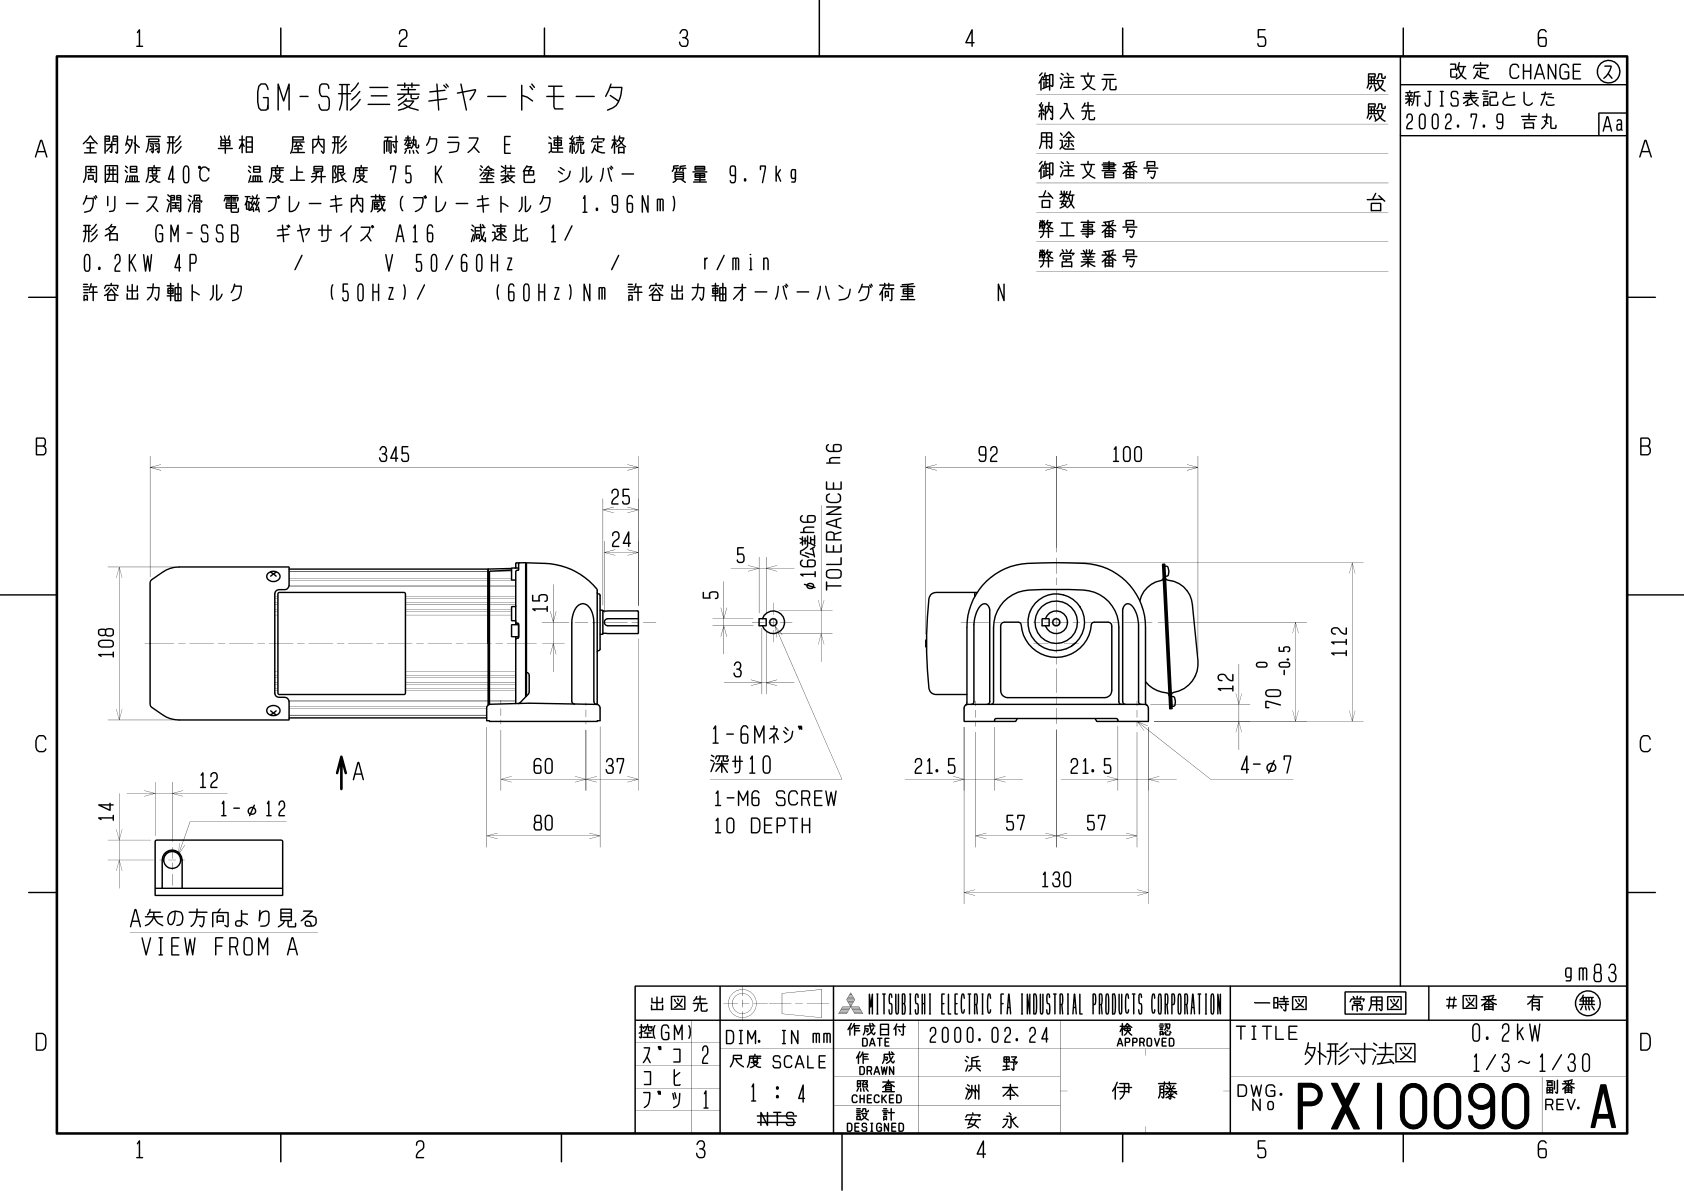GM_S_屋内＿単相_脚: (6, 6, 1681, 1188)
